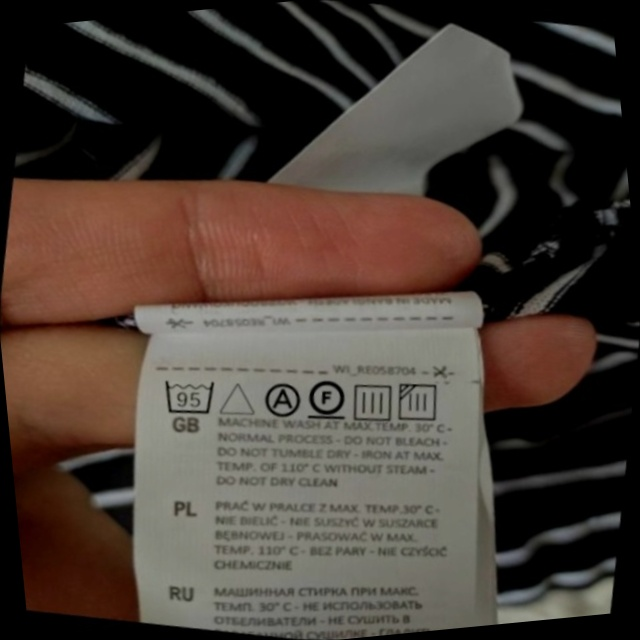95C: (155, 367, 225, 426)
bleach: (213, 371, 262, 425)
drip_dry: (344, 373, 402, 430)
drip_dry_in_shade: (390, 373, 451, 433)
dry_clean: (256, 374, 307, 425)
dry_clean_petrol_only: (300, 368, 355, 428)
